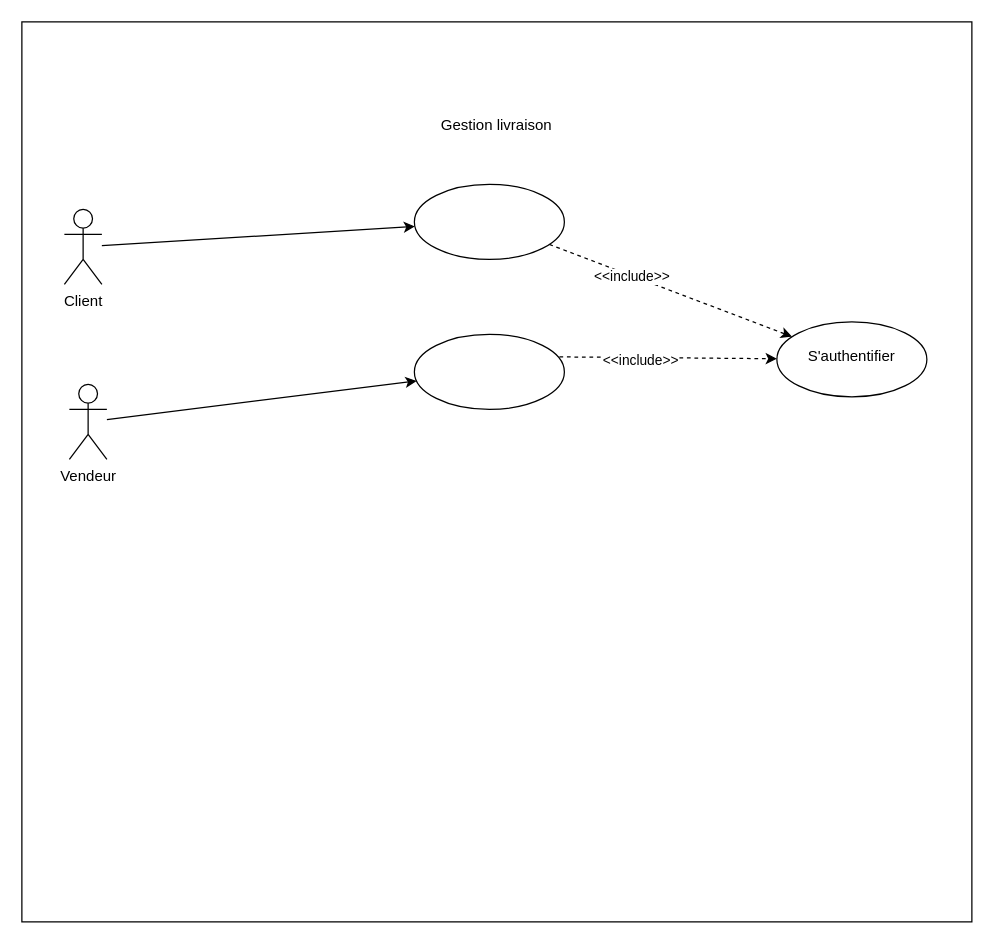
Image size: 994x944. Some labels were removed from this diagram. The centre of each missing label's shape, as x and y in pixels:
Mettre a jour l'etat d'une livraison: pixel 488 371
Voir l'etat de sa livraison: pixel 488 221
